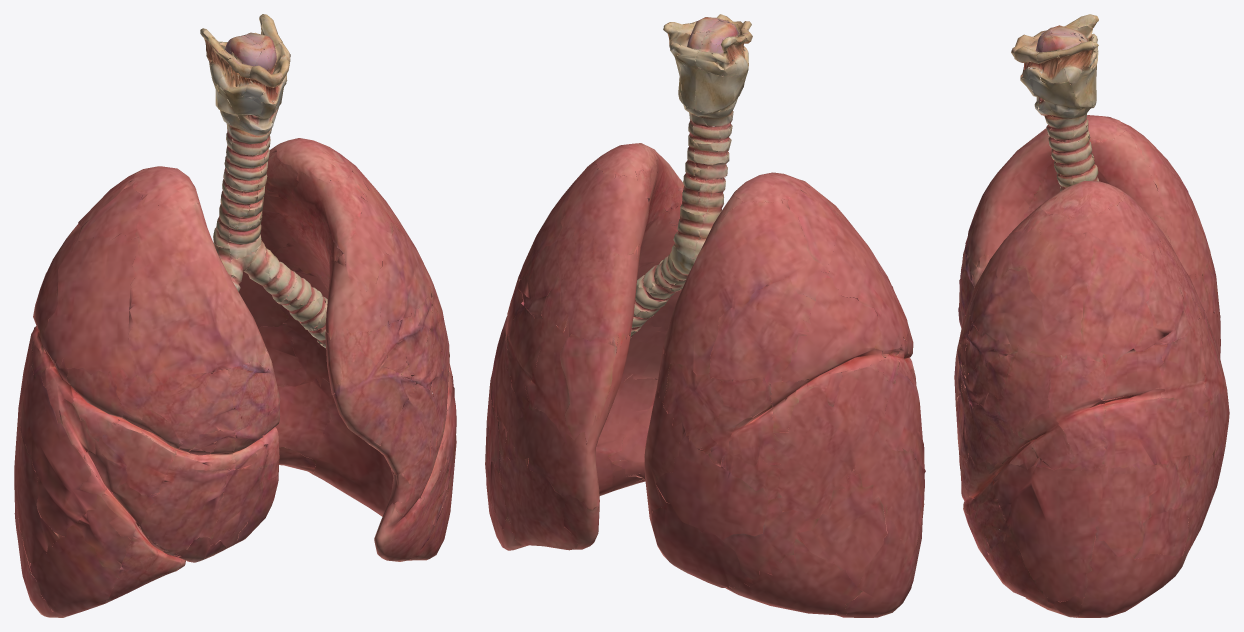
Rendered from astronaut-lungs.glb.
3 renders of one model, left to right at view 1: azimuth 30°, elevation 25°; view 2: azimuth 150°, elevation 25°; view 3: azimuth 270°, elevation 25°, orthographic. The views are drawn at different scales.
Parts seen in each view (by area): view 1: human-lungs; view 2: human-lungs; view 3: human-lungs.
Boxes of the visible parts, bbox=[...] form: human-lungs: bbox=[14, 14, 456, 617]; human-lungs: bbox=[485, 14, 925, 617]; human-lungs: bbox=[954, 14, 1229, 617].
Size of the model in its own units: 0.2349 by 0.3005 by 0.147.
Materials: 1 (1 with a texture image).
